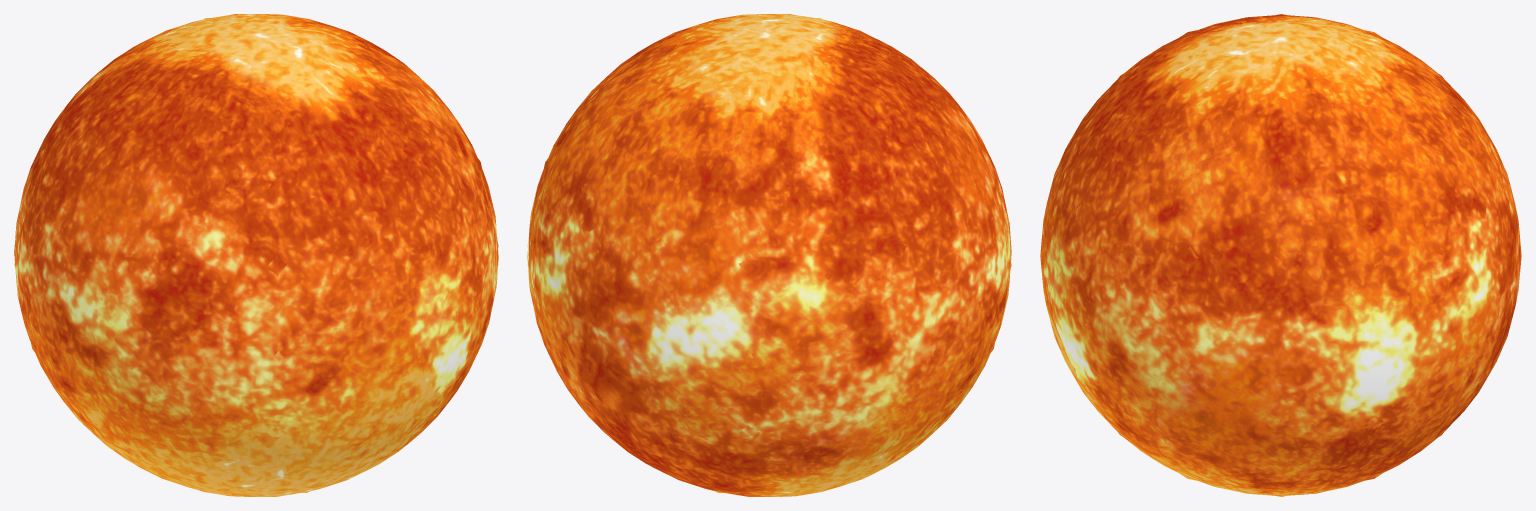
The picture shows the model from 3 angles, left to right: view 1: azimuth 30°, elevation 25°; view 2: azimuth 150°, elevation 25°; view 3: azimuth 270°, elevation 25°; orthographic projection.
Visible parts, largest first — view 1: Sun_LOD1__0, Sun_LOD3__0; view 2: Sun_LOD1__0, Sun_LOD3__0; view 3: Sun_LOD1__0, Sun_LOD3__0.
Part boxes in pixels (x1,y1,x2,y2): Sun_LOD1__0: (14, 14, 498, 496); Sun_LOD3__0: (14, 18, 498, 495); Sun_LOD1__0: (527, 14, 1011, 496); Sun_LOD3__0: (527, 18, 1011, 495); Sun_LOD1__0: (1040, 15, 1521, 495); Sun_LOD3__0: (1060, 14, 1501, 496).
Size of the model in its own units: 44.21 by 44.21 by 44.21.
1 material, 1 textured.
